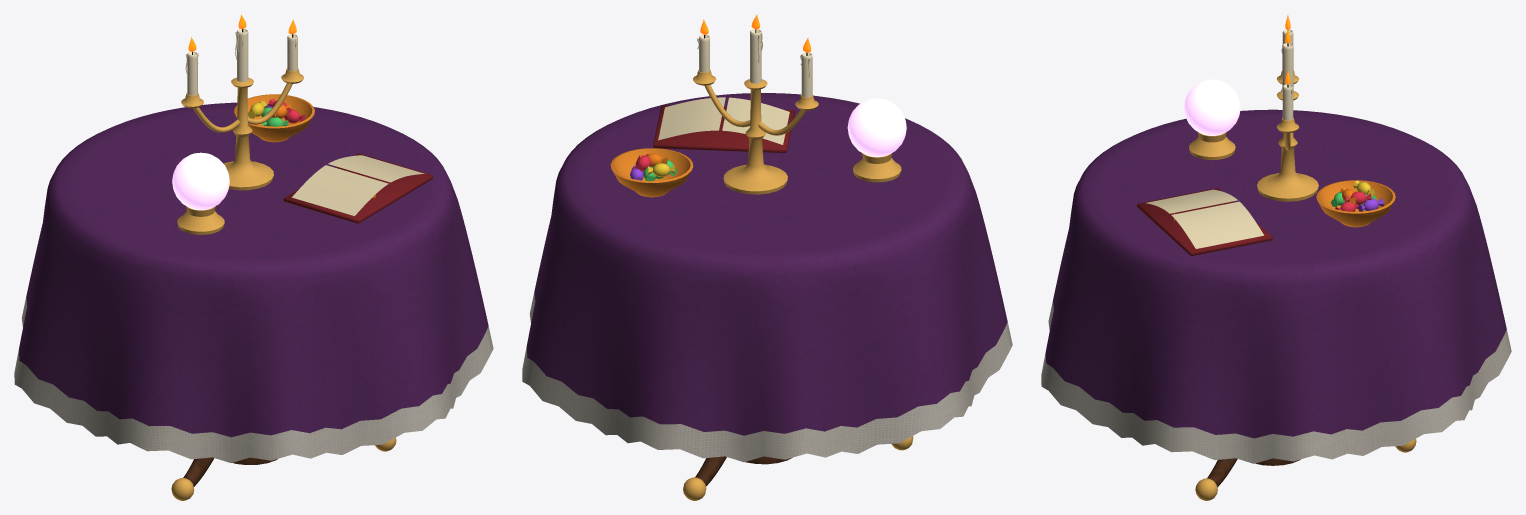
The model's file is manor_table.glb.
The picture shows the model from 3 angles, left to right: view 1: azimuth 30°, elevation 25°; view 2: azimuth 150°, elevation 25°; view 3: azimuth 270°, elevation 25°; orthographic projection. The views are drawn at different scales.
Visible parts, largest first — view 1: Table; view 2: Table; view 3: Table.
Part boxes in pixels (x1,y1,x2,y2): Table: (14, 14, 493, 500); Table: (522, 14, 1012, 500); Table: (1041, 15, 1511, 500).
Bounding box in the file's own units: 1.25 × 1.24 × 1.24.
21 materials, 3 textured.
